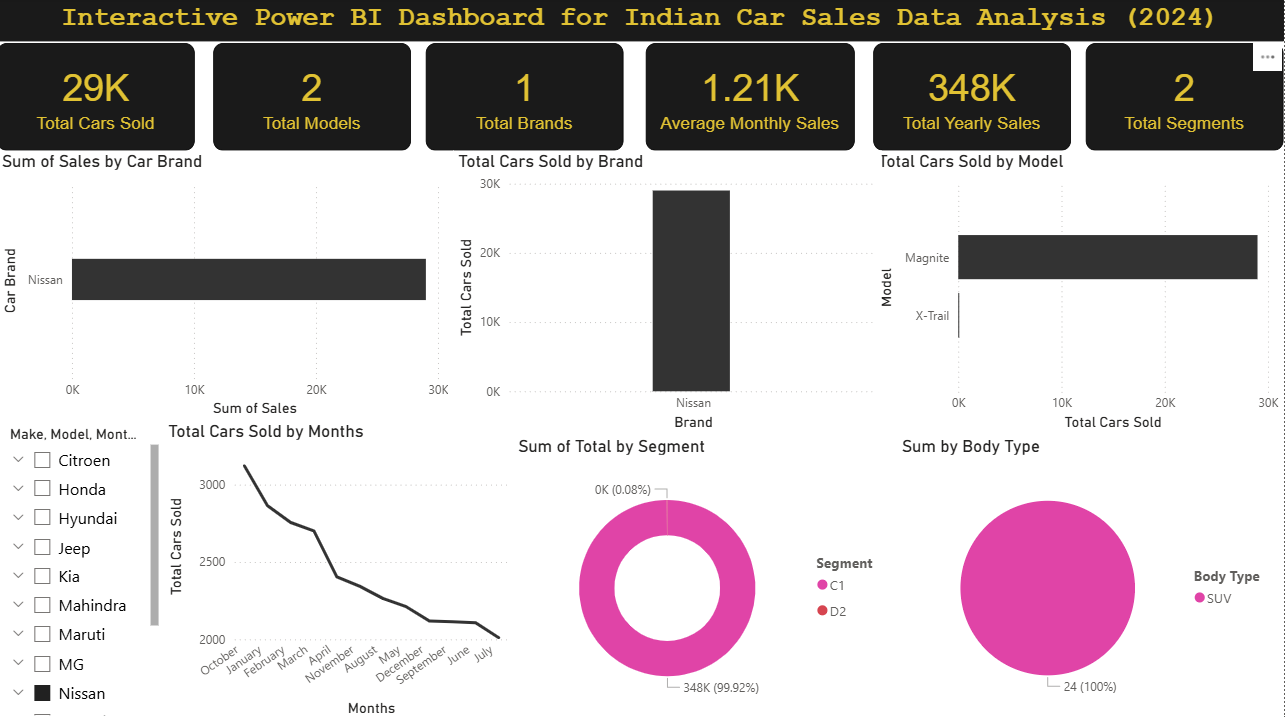

Layout of this report page (visuals, bound fields, positions):
{"tool":"powerbi","page":{"name":"Page 1","canvas":[1280,720],"ordinal":0},"visuals":[{"type":"card","fields":{"Values":["Sheet1.Total Cars Sold"]},"box":[0,44.8,196.5,107],"z":0},{"type":"card","fields":{"Values":["Sheet1.Total Models"]},"box":[215.2,44.8,196.5,107],"z":1},{"type":"card","fields":{"Values":["Sheet1.Total Brands"]},"box":[426.7,44.8,196.5,107],"z":2},{"type":"card","fields":{"Values":["Car Sales.Average Monthly Sales"]},"box":[645.6,44.8,207.7,107],"z":3},{"type":"card","fields":{"Values":["Car Sales.Total Yearly Sales"]},"box":[872,44.8,196.5,107],"z":4},{"type":"card","fields":{"Values":["Car Sales.Total Segments"]},"box":[1083.4,44.8,196.5,107],"z":5},{"type":"clusteredBarChart","fields":{"Category":["Car Sales.Make"],"Y":["Sum(Car Sales.Sales)"]},"box":[0,151.8,454,269.9],"z":6},{"type":"pieChart","fields":{"Category":["Car Sales.Body Type"],"Y":["CountNonNull(Car Sales.Total)"]},"box":[895.7,435.4,384.4,284.9],"z":7},{"type":"donutChart","fields":{"Category":["Car Sales.Segment"],"Y":["Sum(Car Sales.Total)"]},"box":[513.8,435.4,381.9,284.9],"z":8},{"type":"barChart","fields":{"Category":["Car Sales.Model"],"Y":["Car Sales.Total Cars Sold"]},"box":[872,151.8,408,283.6],"z":10},{"type":"slicer","fields":{"Values":["Car Sales.Make","Car Sales.Model","Car Sales.Months","Car Sales.Body Type","Car Sales.Segment"]},"box":[0,420.5,165.4,299.8],"z":11},{"type":"lineChart","fields":{"Y":["Car Sales.Total Cars Sold"],"Category":["Car Sales.Months"]},"box":[165.4,420.5,348.3,299.8],"z":12},{"type":"lineClusteredColumnComboChart","fields":{"Y":["Car Sales.Total Cars Sold"],"Category":["Car Sales.Make"]},"box":[454,151.8,426.7,283.6],"z":13},{"type":"textbox","box":[0,0,1280,43.5],"z":14}]}

Visuals, with their boxes in screenshot pixels (x1, y1, x2, y2), scaled from the page's 1280x720 canvas onto the 1285x717 screenshot:
card - Sheet1.Total Cars Sold: [left=0, top=45, right=197, bottom=151]
card - Sheet1.Total Models: [left=216, top=45, right=413, bottom=151]
card - Sheet1.Total Brands: [left=428, top=45, right=626, bottom=151]
card - Car Sales.Average Monthly Sales: [left=648, top=45, right=857, bottom=151]
card - Car Sales.Total Yearly Sales: [left=875, top=45, right=1073, bottom=151]
card - Car Sales.Total Segments: [left=1088, top=45, right=1284, bottom=151]
clusteredBarChart - Car Sales.Make x Sum(Car Sales.Sales): [left=0, top=151, right=456, bottom=420]
pieChart - Car Sales.Body Type x CountNonNull(Car Sales.Total): [left=899, top=434, right=1284, bottom=716]
donutChart - Car Sales.Segment x Sum(Car Sales.Total): [left=516, top=434, right=899, bottom=716]
barChart - Car Sales.Model x Car Sales.Total Cars Sold: [left=875, top=151, right=1284, bottom=434]
slicer - Car Sales.Make x Car Sales.Model: [left=0, top=419, right=166, bottom=716]
lineChart - Car Sales.Total Cars Sold x Car Sales.Months: [left=166, top=419, right=516, bottom=716]
lineClusteredColumnComboChart - Car Sales.Total Cars Sold x Car Sales.Make: [left=456, top=151, right=884, bottom=434]
textbox: [left=0, top=0, right=1284, bottom=43]
